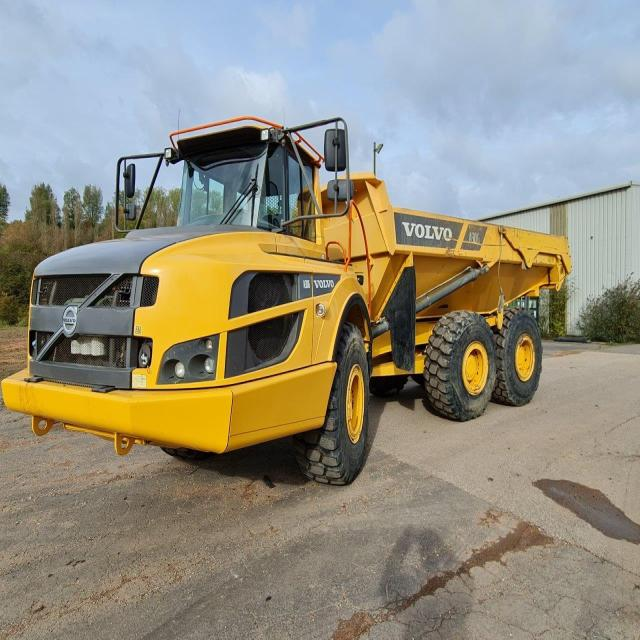dump_truck: (16, 109, 574, 491)
